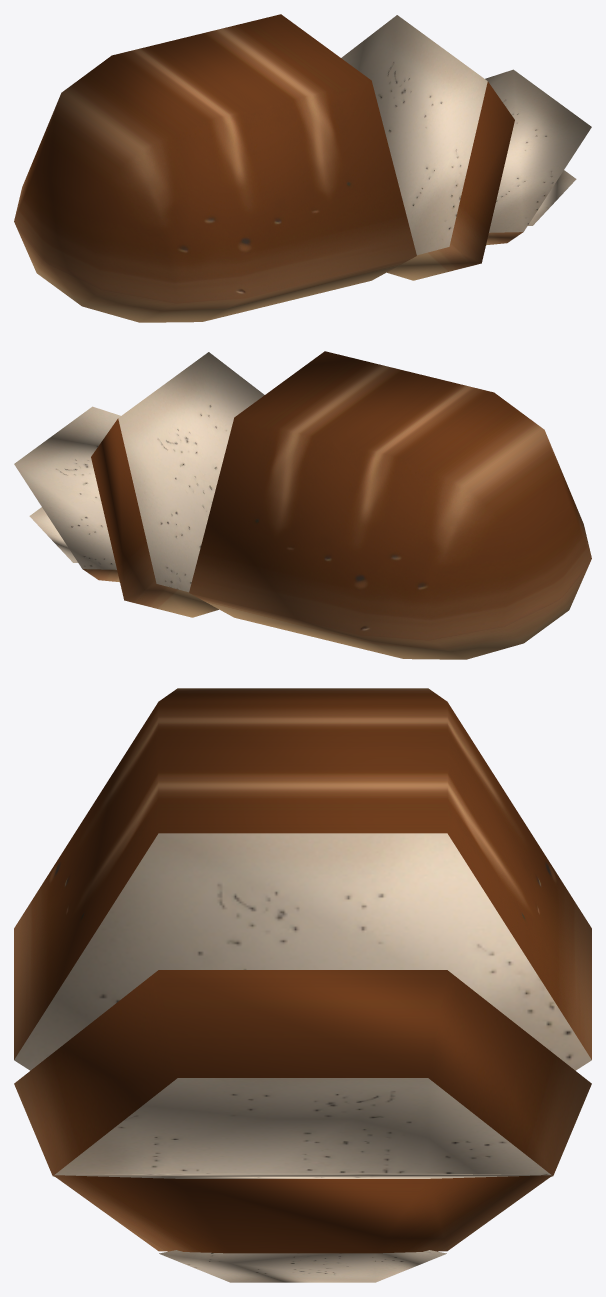
File: bread01.obj
3 renders of one model, top to bottom at view 1: azimuth 30°, elevation 25°; view 2: azimuth 150°, elevation 25°; view 3: azimuth 270°, elevation 25°, orthographic. The views are drawn at different scales.
Visible parts, largest first — view 1: bread01; view 2: bread01; view 3: bread01.
Part boxes in pixels (box(x1,y1,x2,y2)): bread01: box(14, 14, 591, 322); bread01: box(14, 351, 591, 659); bread01: box(14, 688, 591, 1282).
Bounding box in the file's own units: 1.4 × 0.5695 × 0.8644.
1 material, 1 textured.
